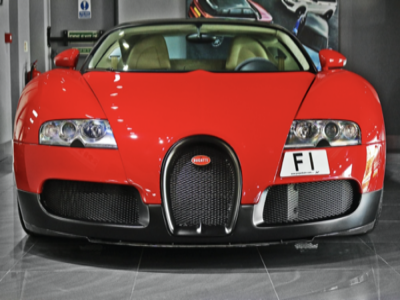licence: (286, 149, 328, 179)
